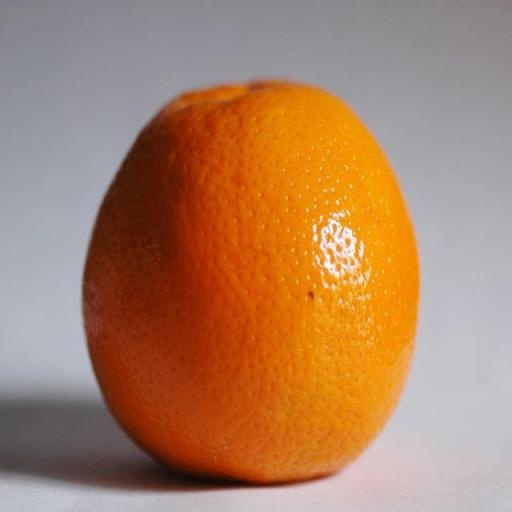fruit: (83, 83, 418, 482)
